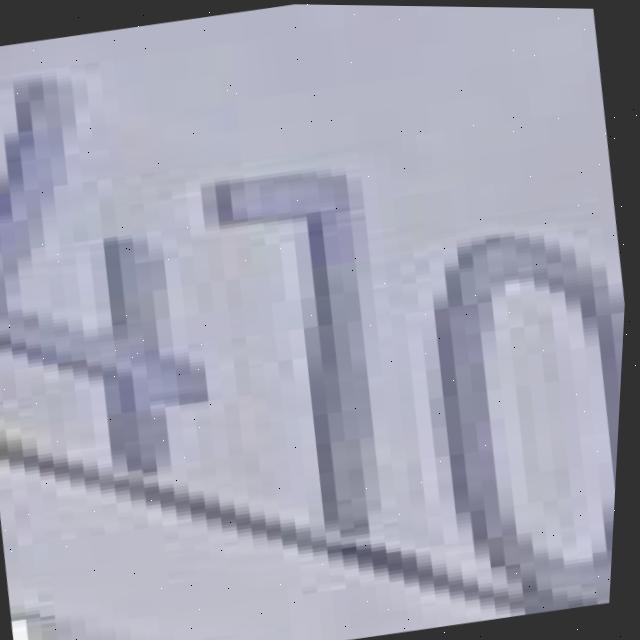character: (0, 43, 252, 508), (377, 203, 630, 629), (185, 149, 433, 570)
